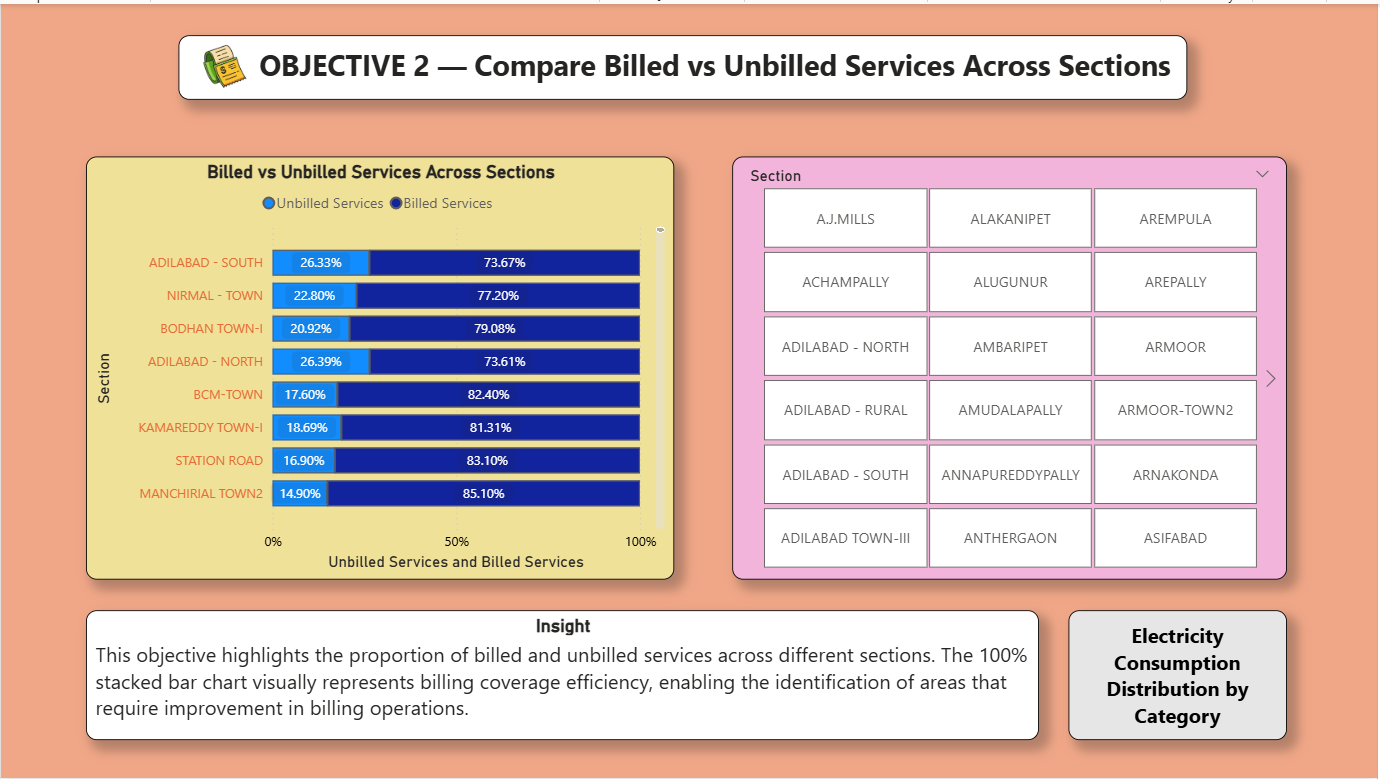

The dashboard page shown, as its layout file describes it:
{"tool":"powerbi","page":{"name":"Billing Comparison","canvas":[1280,720],"ordinal":3},"visuals":[{"type":"textbox","box":[165,28.8,938.8,60],"z":0},{"type":"hundredPercentStackedBarChart","title":"Billed vs Unbilled Services Across Sections","fields":{"Category":["TG-NPDCL_consumption_detail_commercial_OCTOBER-2025.Section"],"Y":["TG-NPDCL_consumption_detail_commercial_OCTOBER-2025.Unbilled Services","TG-NPDCL_consumption_detail_commercial_OCTOBER-2025.Billed Services"]},"box":[79.6,141.3,547.5,393.8],"z":1000},{"type":"slicer","fields":{"Values":["TG-NPDCL_consumption_detail_commercial_OCTOBER-2025.Section"]},"box":[680.6,141.3,516,393.8],"z":2000},{"type":"textbox","title":"Insight","box":[79.6,564,886.5,120.8],"z":3000},{"type":"actionButton","box":[993.5,564,203.1,120.8],"z":4000},{"type":"image","box":[186.1,35.6,42.8,46.1],"z":5000}]}

Visuals, with their boxes in screenshot pixels (x1, y1, x2, y2), scaled from the page's 1280x720 canvas onto the 1380x779 screenshot:
textbox: Rect(178, 31, 1190, 96)
"Billed vs Unbilled Services Across Sections" hundredPercentStackedBarChart: Rect(86, 153, 676, 579)
slicer - TG-NPDCL_consumption_detail_commercial_OCTOBER-2025.Section: Rect(734, 153, 1290, 579)
"Insight" textbox: Rect(86, 610, 1042, 741)
actionButton: Rect(1071, 610, 1290, 741)
image: Rect(201, 39, 247, 88)
